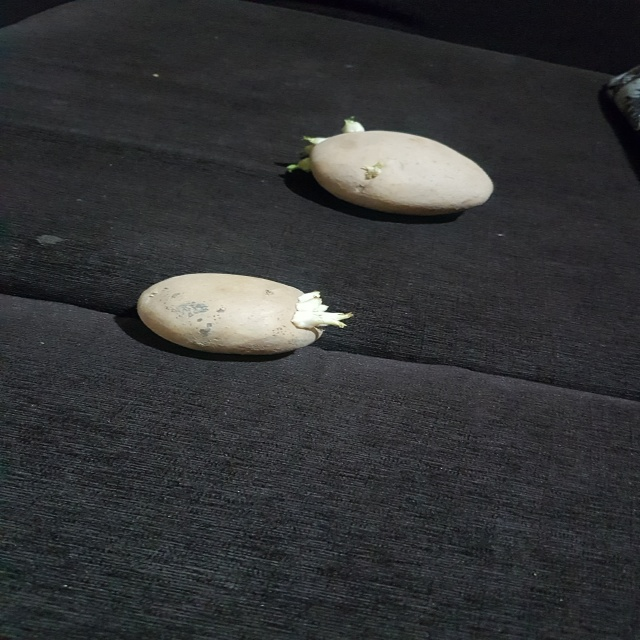potato: (292, 108, 509, 234), (128, 262, 352, 367)
